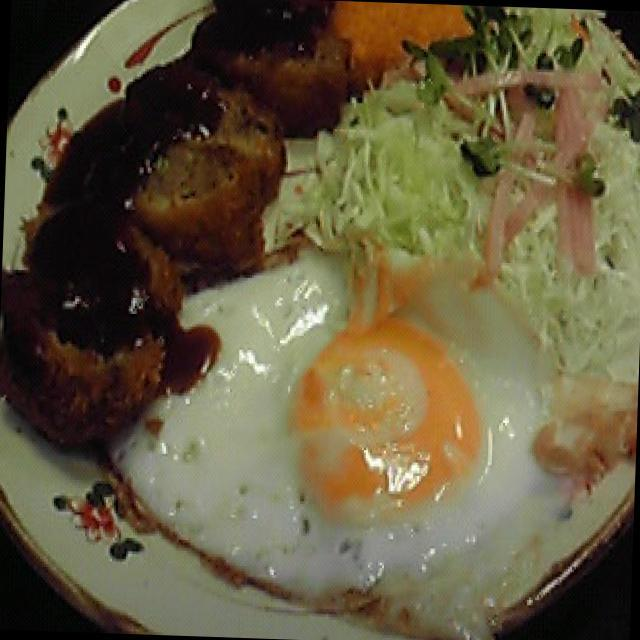Egg: (148, 250, 560, 622), (339, 1, 640, 322)
